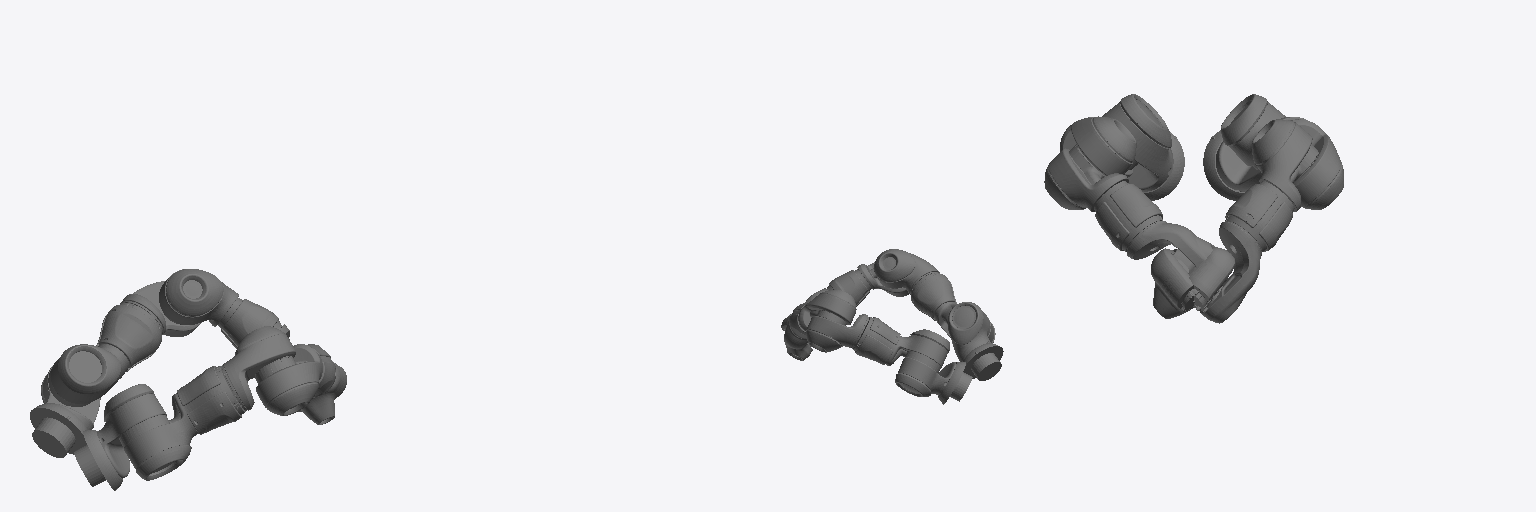
URDF robot description (yumi):
<?xml version="1.0" ?>
<!-- =================================================================================== -->
<!-- |    This document was autogenerated by xacro from yumi.urdf.xacro                | -->
<!-- |    EDITING THIS FILE BY HAND IS NOT RECOMMENDED                                 | -->
<!-- =================================================================================== -->
<robot name="yumi" xmlns:xacro="http://www.ros.org/wiki/xacro">
  <material name="Black">
    <color rgba="0.0 0.0 0.0 1.0"/>
  </material>
  <material name="Blue">
    <color rgba="0.0 0.0 0.8 1.0"/>
  </material>
  <material name="Green">
    <color rgba="0.0 0.8 0.0 1.0"/>
  </material>
  <material name="Grey">
    <color rgba="0.5 0.5 0.5 1.0"/>
  </material>
  <material name="Light_Grey">
    <color rgba="0.8 0.8 0.8 1.0"/>
  </material>
  <material name="Ivory">
    <color rgba="1.0 1.0 0.94 1.0"/>
  </material>
  <material name="Orange">
    <color rgba="1.0 0.423529411765 0.0392156862745 1.0"/>
  </material>
  <material name="Brown">
    <color rgba="0.870588235294 0.811764705882 0.764705882353 1.0"/>
  </material>
  <material name="Red">
    <color rgba="0.8 0.0 0.0 1.0"/>
  </material>
  <material name="White">
    <color rgba="1.0 1.0 1.0 1.0"/>
  </material>
  <gazebo>
    <plugin filename="libgazebo_ros_control.so" name="gazebo_ros_controller">
      <robotNamespace>/yumi</robotNamespace>
    </plugin>
  </gazebo>
  <link name="yumi_base_link"/>
  <joint name="yumi_base_link_to_body" type="fixed">
    <parent link="yumi_base_link"/>
    <child link="yumi_body"/>
    <origin rpy="0 0 0" xyz="0 0 0"/>
  </joint>
  <link name="yumi_body">
    <inertial>
      <origin rpy="0 0 0" xyz="0 0 0"/>
      <mass value="15"/>
      <inertia ixx="0.5" ixy="0" ixz="0" iyy="0.6" iyz="0" izz="0.3"/>
    </inertial>
    <visual>
      <origin rpy="0 0 0" xyz="0 0 0"/>
      <geometry>
        <mesh filename="visual/body.obj"/>
      </geometry>
      <material name="Light_Grey"/>
    </visual>
    <collision>
      <origin rpy="0 0 0" xyz="0 0 0"/>
      <geometry>
        <mesh filename="collision/body.obj"/>
      </geometry>
      <material name="Light_Grey"/>
    </collision>
  </link>
  <!--///////////////////////////////////// RIGHT ARM ////////////////////////////////  -->
  <!-- joint between body and link_1_r -->
  <joint name="yumi_joint_1_r" type="revolute">
    <parent link="yumi_body"/>
    <child link="yumi_link_1_r"/>
    <origin rpy="-0.9795   -0.5682   -2.3155" xyz="0.05355 -0.0725 0.41492"/>
    <axis xyz="0 0 1"/>
    <limit effort="300" lower="-2.94087978961" upper="2.94087978961" velocity="3.14159265359"/>
    <dynamics damping="0.5"/>
  </joint>
  <link name="yumi_link_1_r">
    <inertial>
      <origin rpy="0 0 0" xyz="0 -0.03 0.12"/>
      <mass value="2"/>
      <inertia ixx="0.1" ixy="0" ixz="0" iyy="0.1" iyz="0" izz="0.1"/>
    </inertial>
    <visual>
      <origin rpy="0 0 0" xyz="0 0 0"/>
      <geometry>
        <mesh filename="visual/link_1.obj"/>
      </geometry>
      <material name="Grey"/>
    </visual>
    <collision>
      <origin rpy="0 0 0" xyz="0 0 0"/>
      <geometry>
        <mesh filename="collision/link_1.obj"/>
      </geometry>
      <material name="Grey"/>
    </collision>
  </link>
  <!-- joint between link_1_r and link_2_r -->
  <joint name="yumi_joint_2_r" type="revolute">
    <parent link="yumi_link_1_r"/>
    <child link="yumi_link_2_r"/>
    <origin rpy="1.57079632679 0.0 0.0" xyz="0.03 0.0 0.1"/>
    <axis xyz="0 0 1"/>
    <limit effort="300" lower="-2.50454747661" upper="0.759218224618" velocity="3.14159265359"/>
    <dynamics damping="0.5"/>
  </joint>
  <link name="yumi_link_2_r">
    <inertial>
      <origin rpy="0 0 0" xyz="0 0 0"/>
      <mass value="2"/>
      <inertia ixx="0.1" ixy="0" ixz="0" iyy="0.1" iyz="0" izz="0.1"/>
    </inertial>
    <visual>
      <origin rpy="0 0 0" xyz="0 0 0"/>
      <geometry>
        <mesh filename="visual/link_2.obj"/>
      </geometry>
      <material name="Grey"/>
    </visual>
    <collision>
      <origin rpy="0 0 0" xyz="0 0 0"/>
      <geometry>
        <mesh filename="collision/link_2.obj"/>
      </geometry>
      <material name="Grey"/>
    </collision>
  </link>
  <!-- joint between link_2_r and link_3_r -->
  <joint name="yumi_joint_7_r" type="revolute">
    <parent link="yumi_link_2_r"/>
    <child link="yumi_link_3_r"/>
    <origin rpy="-1.57079632679 0.0 0.0" xyz="-0.03 0.17283 0.0"/>
    <axis xyz="0 0 1"/>
    <limit effort="300" lower="-2.94087978961" upper="2.94087978961" velocity="3.14159265359"/>
    <dynamics damping="0.5"/>
  </joint>
  <link name="yumi_link_3_r">
    <inertial>
      <origin rpy="0 0 0" xyz="0 0 0"/>
      <mass value="2"/>
      <inertia ixx="0.1" ixy="0" ixz="0" iyy="0.1" iyz="0" izz="0.1"/>
    </inertial>
    <visual>
      <origin rpy="0 0 0" xyz="0 0 0"/>
      <geometry>
        <mesh filename="visual/link_3.obj"/>
      </geometry>
      <material name="Grey"/>
    </visual>
    <collision>
      <origin rpy="0 0 0" xyz="0 0 0"/>
      <geometry>
        <mesh filename="collision/link_3.obj"/>
      </geometry>
      <material name="Grey"/>
    </collision>
  </link>
  <!-- joint between link_3_r and link_4_r -->
  <joint name="yumi_joint_3_r" type="revolute">
    <parent link="yumi_link_3_r"/>
    <child link="yumi_link_4_r"/>
    <origin rpy="1.57079632679 -1.57079632679 0.0" xyz="-0.04188 0.0 0.07873"/>
    <axis xyz="0 0 1"/>
    <limit effort="300" lower="-2.15548162621" upper="1.3962634016" velocity="3.14159265359"/>
    <dynamics damping="0.5"/>
  </joint>
  <link name="yumi_link_4_r">
    <inertial>
      <origin rpy="0 0 0" xyz="0 0 0"/>
      <mass value="2"/>
      <inertia ixx="0.1" ixy="0" ixz="0" iyy="0.1" iyz="0" izz="0.1"/>
    </inertial>
    <visual>
      <origin rpy="0 0 0" xyz="0 0 0"/>
      <geometry>
        <mesh filename="visual/link_4.obj"/>
      </geometry>
      <material name="Grey"/>
    </visual>
    <collision>
      <origin rpy="0 0 0" xyz="0 0 0"/>
      <geometry>
        <mesh filename="collision/link_4.obj"/>
      </geometry>
      <material name="Grey"/>
    </collision>
  </link>
  <!-- joint between link_4_r and link_5_r -->
  <joint name="yumi_joint_4_r" type="revolute">
    <parent link="yumi_link_4_r"/>
    <child link="yumi_link_5_r"/>
    <origin rpy="-1.57079632679 0.0 0.0" xyz="0.0405 0.16461 0.0"/>
    <axis xyz="0 0 1"/>
    <limit effort="300" lower="-5.06145483078" upper="5.06145483078" velocity="6.98131700798"/>
    <dynamics damping="0.5"/>
  </joint>
  <link name="yumi_link_5_r">
    <inertial>
      <origin rpy="0 0 0" xyz="0 0 0"/>
      <mass value="2"/>
      <inertia ixx="0.1" ixy="0" ixz="0" iyy="0.1" iyz="0" izz="0.1"/>
    </inertial>
    <visual>
      <origin rpy="0 0 0" xyz="0 0 0"/>
      <geometry>
        <mesh filename="visual/link_5.obj"/>
      </geometry>
      <material name="Grey"/>
    </visual>
    <collision>
      <origin rpy="0 0 0" xyz="0 0 0"/>
      <geometry>
        <mesh filename="collision/link_5.obj"/>
      </geometry>
      <material name="Grey"/>
    </collision>
  </link>
  <!-- joint between link_5_r and link_6_r -->
  <joint name="yumi_joint_5_r" type="revolute">
    <parent link="yumi_link_5_r"/>
    <child link="yumi_link_6_r"/>
    <origin rpy="1.57079632679 0.0 0.0" xyz="-0.027 0 0.10039"/>
    <axis xyz="0 0 1"/>
    <limit effort="300" lower="-1.53588974176" upper="2.40855436775" velocity="6.98131700798"/>
    <dynamics damping="0.5"/>
  </joint>
  <link name="yumi_link_6_r">
    <inertial>
      <origin rpy="0 0 0" xyz="0 0 0"/>
      <mass value="2"/>
      <inertia ixx="0.1" ixy="0" ixz="0" iyy="0.1" iyz="0" izz="0.1"/>
    </inertial>
    <visual>
      <origin rpy="0 0 0" xyz="0 0 0"/>
      <geometry>
        <mesh filename="visual/link_6.obj"/>
      </geometry>
      <material name="Grey"/>
    </visual>
    <collision>
      <origin rpy="0 0 0" xyz="0 0 0"/>
      <geometry>
        <mesh filename="collision/link_6.obj"/>
      </geometry>
      <material name="Grey"/>
    </collision>
  </link>
  <!-- joint between link_6_r and link_7_r -->
  <joint name="yumi_joint_6_r" type="revolute">
    <parent link="yumi_link_6_r"/>
    <child link="yumi_link_7_r"/>
    <origin rpy="-1.57079632679 0.0 0.0" xyz="0.027 0.029 0.0"/>
    <axis xyz="0 0 1"/>
    <limit effort="300" lower="-3.99680398707" upper="3.99680398707" velocity="6.98131700798"/>
    <dynamics damping="0.5"/>
  </joint>
  <link name="yumi_link_7_r">
    <inertial>
      <origin rpy="0 0 0" xyz="0 0 0"/>
      <mass value="2"/>
      <inertia ixx="0.1" ixy="0" ixz="0" iyy="0.1" iyz="0" izz="0.1"/>
    </inertial>
    <visual>
      <origin rpy="0 0 0" xyz="0 0 0"/>
      <geometry>
        <mesh filename="visual/link_7.obj"/>
      </geometry>
      <material name="Grey"/>
    </visual>
    <collision>
      <origin rpy="0 0 0" xyz="0 0 0"/>
      <geometry>
        <mesh filename="collision/link_7.obj"/>
      </geometry>
      <material name="Grey"/>
    </collision>
  </link>
  <!--///////////////////////////////////// LEFT ARM ////////////////////////////////  -->
  <!-- joint between body and link_1_l -->
  <joint name="yumi_joint_1_l" type="revolute">
    <parent link="yumi_body"/>
    <child link="yumi_link_1_l"/>
    <origin rpy="0.9781 -0.5716 2.3180" xyz="0.05355 0.07250 0.41492"/>
    <axis xyz="0 0 1"/>
    <limit effort="300" lower="-2.94087978961" upper="2.94087978961" velocity="3.14159265359"/>
    <dynamics damping="0.5"/>
  </joint>
  <link name="yumi_link_1_l">
    <inertial>
      <origin rpy="0 0 0" xyz="0 -0.03 0.12"/>
      <mass value="2"/>
      <inertia ixx="0.1" ixy="0" ixz="0" iyy="0.1" iyz="0" izz="0.1"/>
    </inertial>
    <visual>
      <origin rpy="0 0 0" xyz="0 0 0"/>
      <geometry>
        <mesh filename="visual/link_1.obj"/>
      </geometry>
      <material name="Grey"/>
    </visual>
    <collision>
      <origin rpy="0 0 0" xyz="0 0 0"/>
      <geometry>
        <mesh filename="collision/link_1.obj"/>
      </geometry>
      <material name="Grey"/>
    </collision>
  </link>
  <!-- joint between link_1_l and link_2_l -->
  <joint name="yumi_joint_2_l" type="revolute">
    <parent link="yumi_link_1_l"/>
    <child link="yumi_link_2_l"/>
    <origin rpy="1.57079632679 0.0 0.0" xyz="0.03 0.0 0.1"/>
    <axis xyz="0 0 1"/>
    <limit effort="300" lower="-2.50454747661" upper="0.759218224618" velocity="3.14159265359"/>
    <dynamics damping="0.5"/>
  </joint>
  <link name="yumi_link_2_l">
    <inertial>
      <origin rpy="0 0 0" xyz="0 0 0"/>
      <mass value="2"/>
      <inertia ixx="0.1" ixy="0" ixz="0" iyy="0.1" iyz="0" izz="0.1"/>
    </inertial>
    <visual>
      <origin rpy="0 0 0" xyz="0 0 0"/>
      <geometry>
        <mesh filename="visual/link_2.obj"/>
      </geometry>
      <material name="Grey"/>
    </visual>
    <collision>
      <origin rpy="0 0 0" xyz="0 0 0"/>
      <geometry>
        <mesh filename="collision/link_2.obj"/>
      </geometry>
      <material name="Grey"/>
    </collision>
  </link>
  <!-- joint between link_2_l and link_3_l -->
  <joint name="yumi_joint_7_l" type="revolute">
    <parent link="yumi_link_2_l"/>
    <child link="yumi_link_3_l"/>
    <origin rpy="-1.57079632679 0.0 0.0" xyz="-0.03 0.17283 0.0"/>
    <axis xyz="0 0 1"/>
    <limit effort="300" lower="-2.94087978961" upper="2.94087978961" velocity="3.14159265359"/>
    <dynamics damping="0.5"/>
  </joint>
  <link name="yumi_link_3_l">
    <inertial>
      <origin rpy="0 0 0" xyz="0 0 0"/>
      <mass value="2"/>
      <inertia ixx="0.1" ixy="0" ixz="0" iyy="0.1" iyz="0" izz="0.1"/>
    </inertial>
    <visual>
      <origin rpy="0 0 0" xyz="0 0 0"/>
      <geometry>
        <mesh filename="visual/link_3.obj"/>
      </geometry>
      <material name="Grey"/>
    </visual>
    <collision>
      <origin rpy="0 0 0" xyz="0 0 0"/>
      <geometry>
        <mesh filename="collision/link_3.obj"/>
      </geometry>
      <material name="Grey"/>
    </collision>
  </link>
  <!-- joint between link_3_l and link_4_l -->
  <joint name="yumi_joint_3_l" type="revolute">
    <parent link="yumi_link_3_l"/>
    <child link="yumi_link_4_l"/>
    <origin rpy="1.57079632679 -1.57079632679 0.0" xyz="-0.04188 0.0 0.07873"/>
    <axis xyz="0 0 1"/>
    <limit effort="300" lower="-2.15548162621" upper="1.3962634016" velocity="3.14159265359"/>
    <dynamics damping="0.5"/>
  </joint>
  <link name="yumi_link_4_l">
    <inertial>
      <origin rpy="0 0 0" xyz="0 0 0"/>
      <mass value="2"/>
      <inertia ixx="0.1" ixy="0" ixz="0" iyy="0.1" iyz="0" izz="0.1"/>
    </inertial>
    <visual>
      <origin rpy="0 0 0" xyz="0 0 0"/>
      <geometry>
        <mesh filename="visual/link_4.obj"/>
      </geometry>
      <material name="Grey"/>
    </visual>
    <collision>
      <origin rpy="0 0 0" xyz="0 0 0"/>
      <geometry>
        <mesh filename="collision/link_4.obj"/>
      </geometry>
      <material name="Grey"/>
    </collision>
  </link>
  <!-- joint between link_4_l and link_5_l -->
  <joint name="yumi_joint_4_l" type="revolute">
    <parent link="yumi_link_4_l"/>
    <child link="yumi_link_5_l"/>
    <origin rpy="-1.57079632679 0.0 0.0" xyz="0.0405 0.16461 0.0"/>
    <axis xyz="0 0 1"/>
    <limit effort="300" lower="-5.06145483078" upper="5.06145483078" velocity="6.98131700798"/>
    <dynamics damping="0.5"/>
  </joint>
  <link name="yumi_link_5_l">
    <inertial>
      <origin rpy="0 0 0" xyz="0 0 0"/>
      <mass value="2"/>
      <inertia ixx="0.1" ixy="0" ixz="0" iyy="0.1" iyz="0" izz="0.1"/>
    </inertial>
    <visual>
      <origin rpy="0 0 0" xyz="0 0 0"/>
      <geometry>
        <mesh filename="visual/link_5.obj"/>
      </geometry>
      <material name="Grey"/>
    </visual>
    <collision>
      <origin rpy="0 0 0" xyz="0 0 0"/>
      <geometry>
        <mesh filename="collision/link_5.obj"/>
      </geometry>
      <material name="Grey"/>
    </collision>
  </link>
  <!-- joint between link_5_l and link_6_l -->
  <joint name="yumi_joint_5_l" type="revolute">
    <parent link="yumi_link_5_l"/>
    <child link="yumi_link_6_l"/>
    <origin rpy="1.57079632679 0.0 0.0" xyz="-0.027 0 0.10039"/>
    <axis xyz="0 0 1"/>
    <limit effort="300" lower="-1.53588974176" upper="2.40855436775" velocity="6.98131700798"/>
    <dynamics damping="0.5"/>
  </joint>
  <link name="yumi_link_6_l">
    <inertial>
      <origin rpy="0 0 0" xyz="0 0 0"/>
      <mass value="2"/>
      <inertia ixx="0.1" ixy="0" ixz="0" iyy="0.1" iyz="0" izz="0.1"/>
    </inertial>
    <visual>
      <origin rpy="0 0 0" xyz="0 0 0"/>
      <geometry>
        <mesh filename="visual/link_6.obj"/>
      </geometry>
      <material name="Grey"/>
    </visual>
    <collision>
      <origin rpy="0 0 0" xyz="0 0 0"/>
      <geometry>
        <mesh filename="collision/link_6.obj"/>
      </geometry>
      <material name="Grey"/>
    </collision>
  </link>
  <!-- joint between link_6_l and link_7_l -->
  <joint name="yumi_joint_6_l" type="revolute">
    <parent link="yumi_link_6_l"/>
    <child link="yumi_link_7_l"/>
    <origin rpy="-1.57079632679 0.0 0.0" xyz="0.027 0.029 0.0"/>
    <axis xyz="0 0 1"/>
    <limit effort="300" lower="-3.99680398707" upper="3.99680398707" velocity="6.98131700798"/>
    <dynamics damping="0.5"/>
  </joint>
  <link name="yumi_link_7_l">
    <inertial>
      <origin rpy="0 0 0" xyz="0 0 0"/>
      <mass value="2"/>
      <inertia ixx="0.1" ixy="0" ixz="0" iyy="0.1" iyz="0" izz="0.1"/>
    </inertial>
    <visual>
      <origin rpy="0 0 0" xyz="0 0 0"/>
      <geometry>
        <mesh filename="visual/link_7.obj"/>
      </geometry>
      <material name="Grey"/>
    </visual>
    <collision>
      <origin rpy="0 0 0" xyz="0 0 0"/>
      <geometry>
        <mesh filename="collision/link_7.obj"/>
      </geometry>
      <material name="Grey"/>
    </collision>
  </link>
  <!-- Gazebo reference frame -->
  <gazebo reference="yumi_body">
    <material>Gazebo/Ivory</material>
    <mu1>0.2</mu1>
    <mu2>0.2</mu2>
  </gazebo>
  <transmission name="yumi_tran_1_r">
    <type>transmission_interface/SimpleTransmission</type>
    <joint name="yumi_joint_1_r">
      <hardwareInterface>hardware_interface/VelocityJointInterface</hardwareInterface>
    </joint>
    <actuator name="yumi_motor_1_r">
      <hardwareInterface>hardware_interface/VelocityJointInterface</hardwareInterface>
      <mechanicalReduction>1</mechanicalReduction>
    </actuator>
  </transmission>
  <transmission name="yumi_tran_2_r">
    <type>transmission_interface/SimpleTransmission</type>
    <joint name="yumi_joint_2_r">
      <hardwareInterface>hardware_interface/VelocityJointInterface</hardwareInterface>
    </joint>
    <actuator name="yumi_motor_2_r">
      <hardwareInterface>hardware_interface/VelocityJointInterface</hardwareInterface>
      <mechanicalReduction>1</mechanicalReduction>
    </actuator>
  </transmission>
  <transmission name="yumi_tran_3_r">
    <type>transmission_interface/SimpleTransmission</type>
    <joint name="yumi_joint_3_r">
      <hardwareInterface>hardware_interface/VelocityJointInterface</hardwareInterface>
    </joint>
    <actuator name="yumi_motor_3_r">
      <hardwareInterface>hardware_interface/VelocityJointInterface</hardwareInterface>
      <mechanicalReduction>1</mechanicalReduction>
    </actuator>
  </transmission>
  <transmission name="yumi_tran_4_r">
    <type>transmission_interface/SimpleTransmission</type>
    <joint name="yumi_joint_4_r">
      <hardwareInterface>hardware_interface/VelocityJointInterface</hardwareInterface>
    </joint>
    <actuator name="yumi_motor_4_r">
      <hardwareInterface>hardware_interface/VelocityJointInterface</hardwareInterface>
      <mechanicalReduction>1</mechanicalReduction>
    </actuator>
  </transmission>
  <transmission name="yumi_tran_5_r">
    <type>transmission_interface/SimpleTransmission</type>
    <joint name="yumi_joint_5_r">
      <hardwareInterface>hardware_interface/VelocityJointInterface</hardwareInterface>
    </joint>
    <actuator name="yumi_motor_5_r">
      <hardwareInterface>hardware_interface/VelocityJointInterface</hardwareInterface>
      <mechanicalReduction>1</mechanicalReduction>
    </actuator>
  </transmission>
  <transmission name="yumi_tran_6_r">
    <type>transmission_interface/SimpleTransmission</type>
    <joint name="yumi_joint_6_r">
      <hardwareInterface>hardware_interface/VelocityJointInterface</hardwareInterface>
    </joint>
    <actuator name="yumi_motor_6_r">
      <hardwareInterface>hardware_interface/VelocityJointInterface</hardwareInterface>
      <mechanicalReduction>1</mechanicalReduction>
    </actuator>
  </transmission>
  <transmission name="yumi_tran_7_r">
    <type>transmission_interface/SimpleTransmission</type>
    <joint name="yumi_joint_7_r">
      <hardwareInterface>hardware_interface/VelocityJointInterface</hardwareInterface>
    </joint>
    <actuator name="yumi_motor_7_r">
      <hardwareInterface>hardware_interface/VelocityJointInterface</hardwareInterface>
      <mechanicalReduction>1</mechanicalReduction>
    </actuator>
  </transmission>
  <transmission name="yumi_tran_1_l">
    <type>transmission_interface/SimpleTransmission</type>
    <joint name="yumi_joint_1_l">
      <hardwareInterface>hardware_interface/VelocityJointInterface</hardwareInterface>
    </joint>
    <actuator name="yumi_motor_1_l">
      <hardwareInterface>hardware_interface/VelocityJointInterface</hardwareInterface>
      <mechanicalReduction>1</mechanicalReduction>
    </actuator>
  </transmission>
  <transmission name="yumi_tran_2_l">
    <type>transmission_interface/SimpleTransmission</type>
    <joint name="yumi_joint_2_l">
      <hardwareInterface>hardware_interface/VelocityJointInterface</hardwareInterface>
    </joint>
    <actuator name="yumi_motor_2_l">
      <hardwareInterface>hardware_interface/VelocityJointInterface</hardwareInterface>
      <mechanicalReduction>1</mechanicalReduction>
    </actuator>
  </transmission>
  <transmission name="yumi_tran_3_l">
    <type>transmission_interface/SimpleTransmission</type>
    <joint name="yumi_joint_3_l">
      <hardwareInterface>hardware_interface/VelocityJointInterface</hardwareInterface>
    </joint>
    <actuator name="yumi_motor_3_l">
      <hardwareInterface>hardware_interface/VelocityJointInterface</hardwareInterface>
      <mechanicalReduction>1</mechanicalReduction>
    </actuator>
  </transmission>
  <transmission name="yumi_tran_4_l">
    <type>transmission_interface/SimpleTransmission</type>
    <joint name="yumi_joint_4_l">
      <hardwareInterface>hardware_interface/VelocityJointInterface</hardwareInterface>
    </joint>
    <actuator name="yumi_motor_4_l">
      <hardwareInterface>hardware_interface/VelocityJointInterface</hardwareInterface>
      <mechanicalReduction>1</mechanicalReduction>
    </actuator>
  </transmission>
  <transmission name="yumi_tran_5_l">
    <type>transmission_interface/SimpleTransmission</type>
    <joint name="yumi_joint_5_l">
      <hardwareInterface>hardware_interface/VelocityJointInterface</hardwareInterface>
    </joint>
    <actuator name="yumi_motor_5_l">
      <hardwareInterface>hardware_interface/VelocityJointInterface</hardwareInterface>
      <mechanicalReduction>1</mechanicalReduction>
    </actuator>
  </transmission>
  <transmission name="yumi_tran_6_l">
    <type>transmission_interface/SimpleTransmission</type>
    <joint name="yumi_joint_6_l">
      <hardwareInterface>hardware_interface/VelocityJointInterface</hardwareInterface>
    </joint>
    <actuator name="yumi_motor_6_l">
      <hardwareInterface>hardware_interface/VelocityJointInterface</hardwareInterface>
      <mechanicalReduction>1</mechanicalReduction>
    </actuator>
  </transmission>
  <transmission name="yumi_tran_7_l">
    <type>transmission_interface/SimpleTransmission</type>
    <joint name="yumi_joint_7_l">
      <hardwareInterface>hardware_interface/VelocityJointInterface</hardwareInterface>
    </joint>
    <actuator name="yumi_motor_7_l">
      <hardwareInterface>hardware_interface/VelocityJointInterface</hardwareInterface>
      <mechanicalReduction>1</mechanicalReduction>
    </actuator>
  </transmission>
</robot>

--- Render facts (derived) ---
Views: 3 orthographic renders of the robot side by side, from view 1: azimuth 30°, elevation 25°; view 2: azimuth 150°, elevation 25°; view 3: azimuth 270°, elevation 25°.
Model yumi with 16 links and 15 joints (14 revolute, 1 fixed), rooted at yumi_base_link, posed every joint at zero.
Links seen in each view (by area): view 1: yumi_link_2_r, yumi_link_2_l, yumi_link_4_l, yumi_link_1_r, yumi_link_4_r, yumi_link_1_l, yumi_link_3_r, yumi_link_3_l, yumi_link_6_r; view 2: yumi_link_2_l, yumi_link_1_r, yumi_link_1_l, yumi_link_2_r, yumi_link_4_l, yumi_link_3_r, yumi_link_3_l, yumi_link_4_r, yumi_link_5_l; view 3: yumi_link_4_l, yumi_link_4_r, yumi_link_1_r, yumi_link_3_r, yumi_link_5_l, yumi_link_3_l, yumi_link_2_l, yumi_link_1_l, yumi_link_5_r, yumi_link_6_r, yumi_link_6_l.
Boxes of the visible links, x1,y1,x2,y2 form: yumi_link_2_r: (119, 366, 245, 480); yumi_link_2_l: (48, 303, 161, 406); yumi_link_4_l: (159, 269, 280, 348); yumi_link_1_r: (74, 384, 166, 490); yumi_link_4_r: (255, 344, 335, 415); yumi_link_1_l: (30, 366, 100, 457); yumi_link_3_r: (222, 326, 295, 410); yumi_link_3_l: (120, 281, 201, 336); yumi_link_6_r: (301, 365, 346, 424); yumi_link_2_l: (853, 317, 949, 372); yumi_link_1_r: (948, 302, 1003, 380); yumi_link_1_l: (895, 357, 972, 404); yumi_link_2_r: (911, 273, 995, 342); yumi_link_4_l: (789, 289, 856, 338); yumi_link_3_r: (874, 249, 939, 294); yumi_link_3_l: (806, 314, 868, 352); yumi_link_4_r: (827, 262, 908, 306); yumi_link_5_l: (784, 314, 812, 360); yumi_link_4_l: (1225, 119, 1318, 251); yumi_link_4_r: (1044, 144, 1162, 251); yumi_link_1_r: (1102, 94, 1184, 200); yumi_link_3_r: (1060, 116, 1136, 175); yumi_link_5_l: (1200, 221, 1261, 323); yumi_link_3_l: (1291, 119, 1343, 209); yumi_link_2_l: (1221, 94, 1307, 169); yumi_link_1_l: (1203, 130, 1261, 200); yumi_link_5_r: (1127, 221, 1214, 266); yumi_link_6_r: (1151, 248, 1193, 318); yumi_link_6_l: (1173, 247, 1234, 304).
Bounding box of the posed robot: 1.04 × 0.7577 × 0.6443 m (x, y, z).
Meshes: 8 distinct files referenced, 14 mesh visuals loaded (7 OBJ); not drawn: 1 (reference not matched to a file when rendering).
